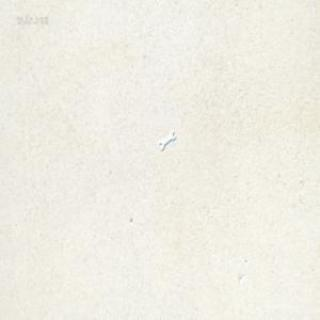Wrenchtrack_idkeyframe: (158, 130, 175, 149)
